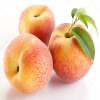Peach leaf: (72, 28, 96, 63), (76, 12, 88, 28)
